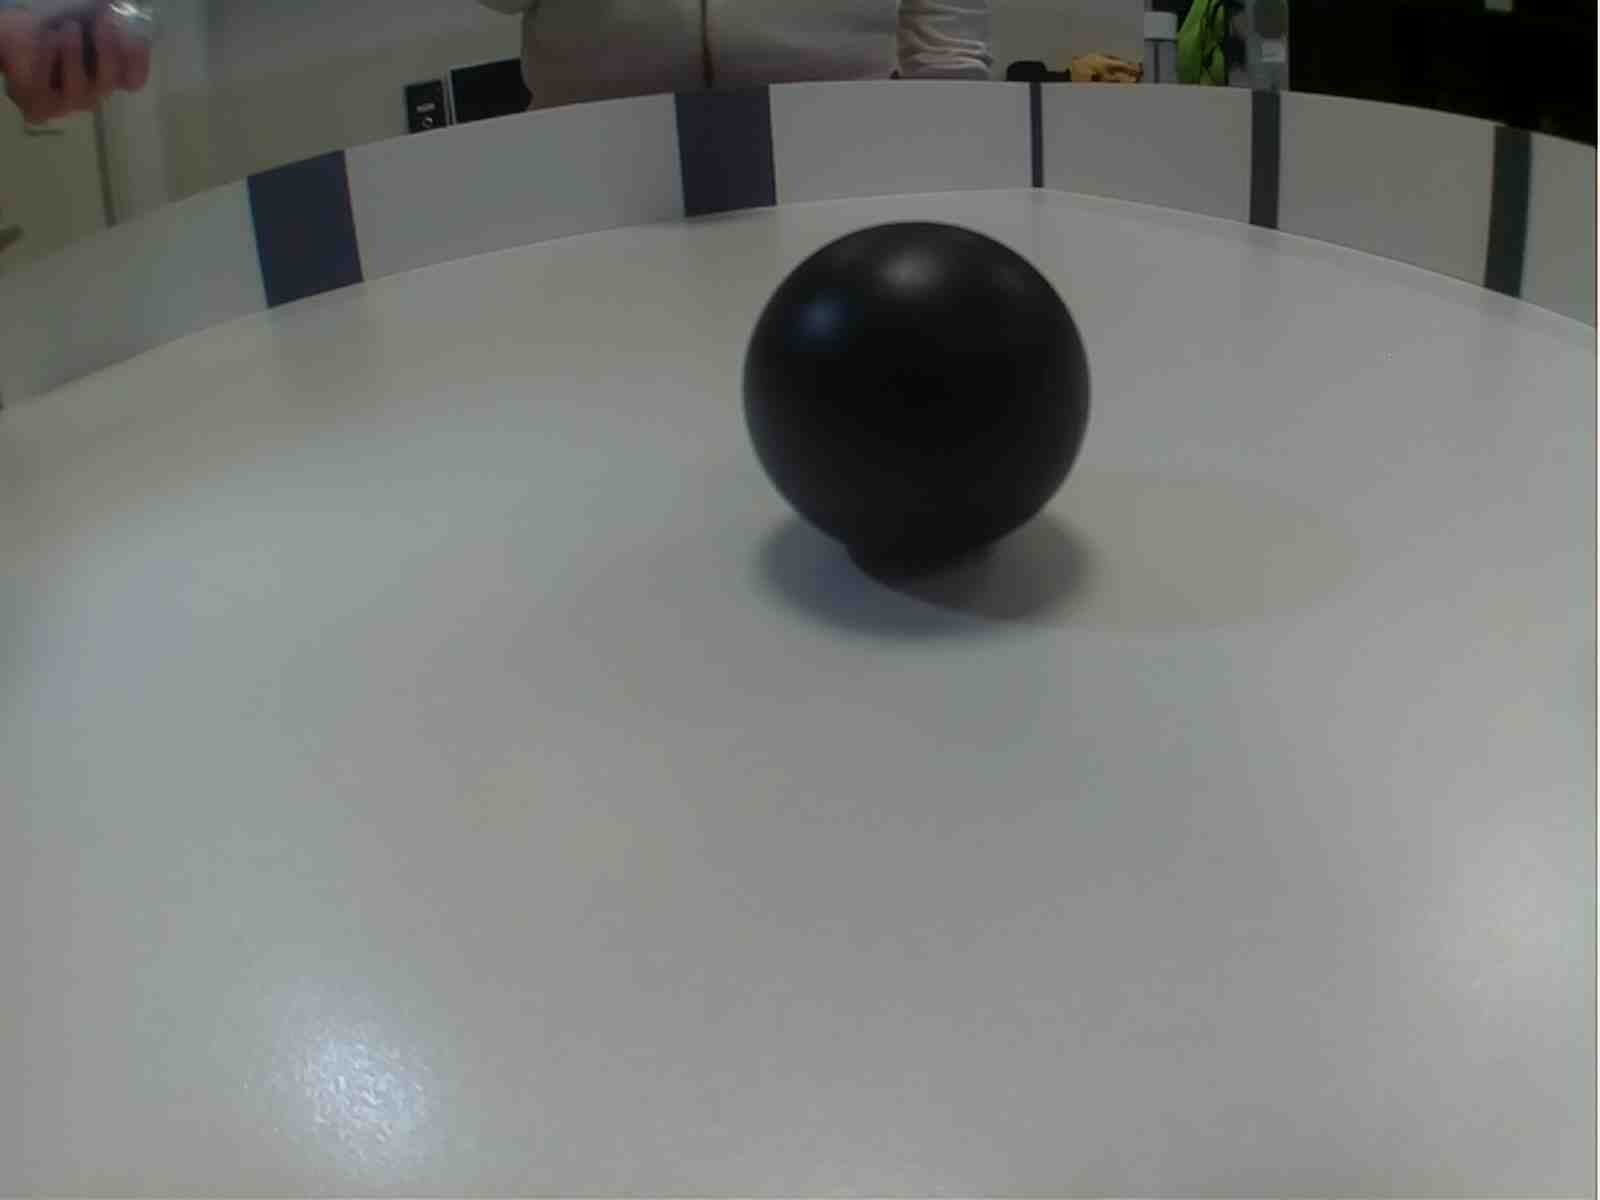nera: (738, 213, 1094, 567)
